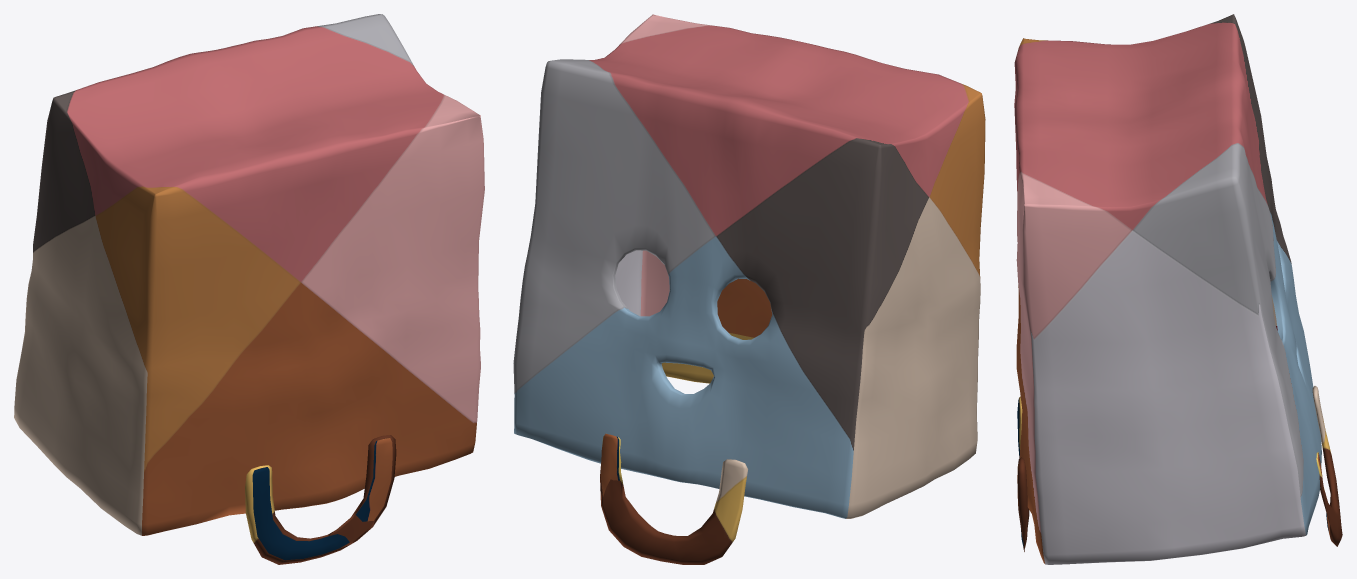
File: Hat_BagHappy.fbx
The picture shows the model from 3 angles, left to right: view 1: azimuth 30°, elevation 25°; view 2: azimuth 150°, elevation 25°; view 3: azimuth 270°, elevation 25°; orthographic projection. The views are drawn at different scales.
Visible parts, largest first — view 1: Hat_BagHappy; view 2: Hat_BagHappy; view 3: Hat_BagHappy.
Part boxes in pixels (left/top/right/bottom): Hat_BagHappy: left=14, top=14, right=484, bottom=564; Hat_BagHappy: left=513, top=14, right=985, bottom=564; Hat_BagHappy: left=1014, top=14, right=1342, bottom=564.
Size of the model in its own units: 91.25 by 105 by 69.18.
